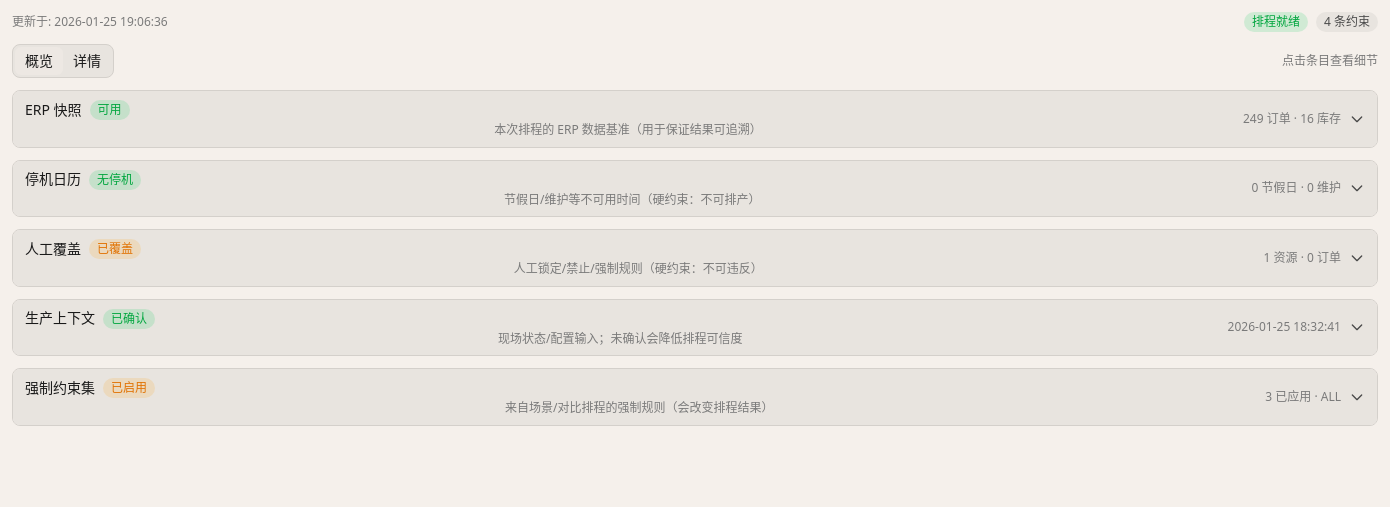
ConstraintsPanel › shows override updated timestamp when expanded
The width and height of the screenshot is (1390, 507).
Expected: the text "人工覆盖" is shown, [25,238,81,258]
Click the button "人工覆盖 已覆盖 人工锁定/禁止/强制规则（硬约束：不可违反） 1 资源 · 0 订单". click: (695, 258)
box: [13,230,1377,286]
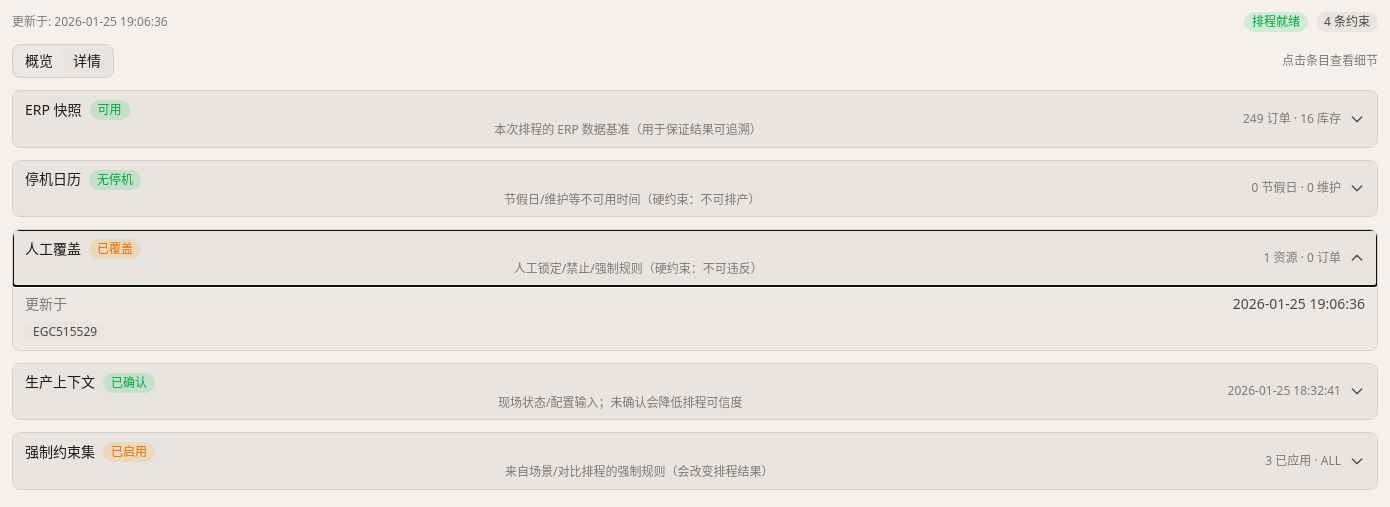
Expected: the text "更新于" is shown, [25,294,67,314]
Expected: the text "2026-01-25 19:06:36" is shown, [1233,294,1365,314]
